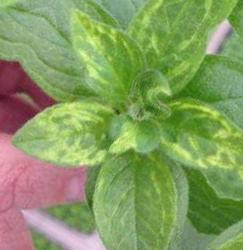Tomato leaf mosaic virus: (61, 132, 205, 250), (99, 0, 221, 123), (38, 4, 166, 120), (143, 84, 243, 188)
